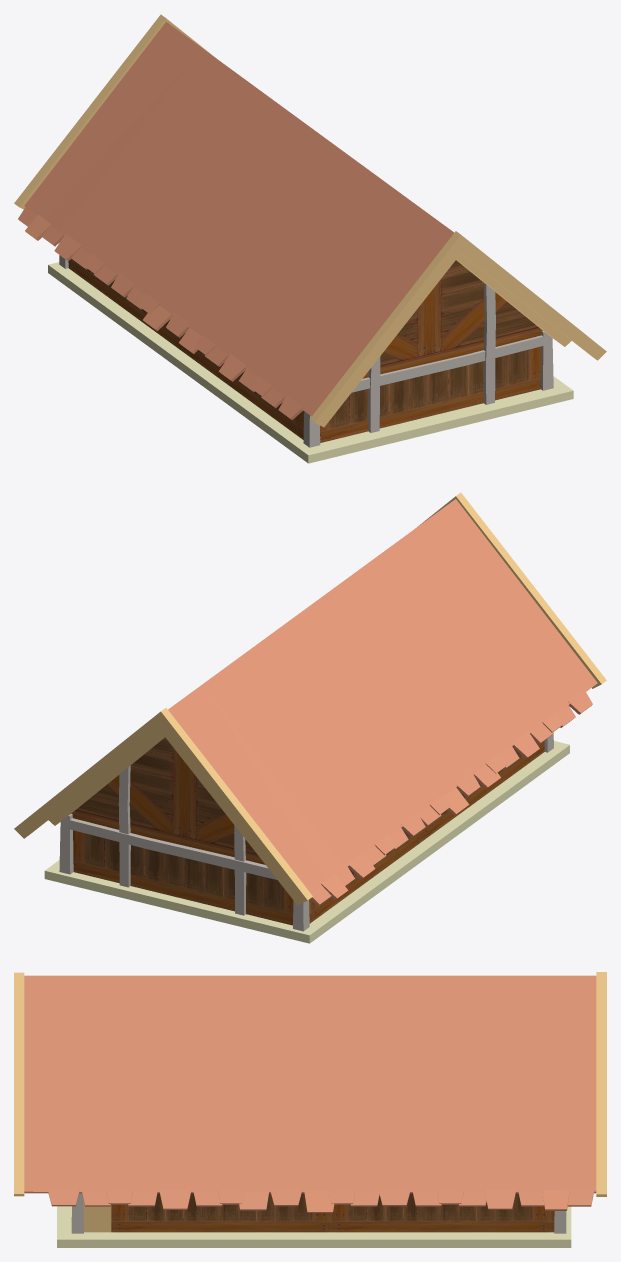
File: Building_C_01.fbx
The picture shows the model from 3 angles, top to bottom: view 1: azimuth 30°, elevation 25°; view 2: azimuth 150°, elevation 25°; view 3: azimuth 270°, elevation 25°; orthographic projection.
Visible parts, largest first — view 1: Building_C_01; view 2: Building_C_01; view 3: Building_C_01.
Part boxes in pixels (<box>): Building_C_01: <box>14,14,606,463</box>; Building_C_01: <box>14,492,606,943</box>; Building_C_01: <box>14,972,606,1247</box>.
Size of the model in its own units: 1594 by 1035 by 2637.
